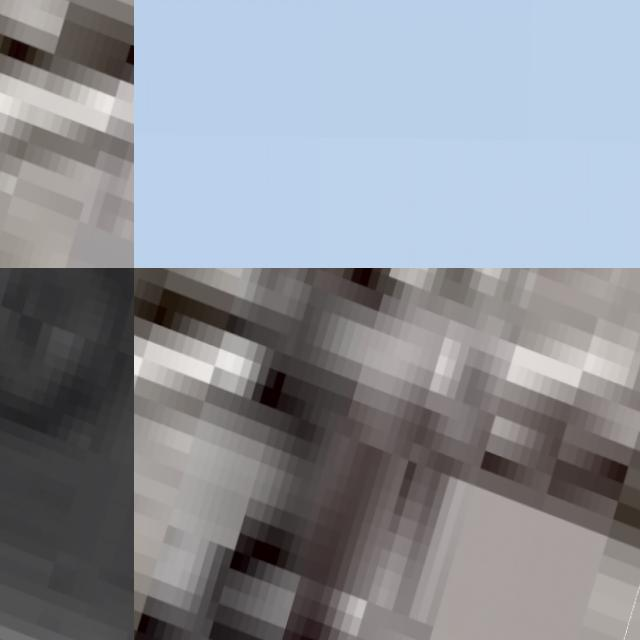drone: (134, 268, 640, 640), (0, 268, 134, 640), (0, 0, 134, 268)
